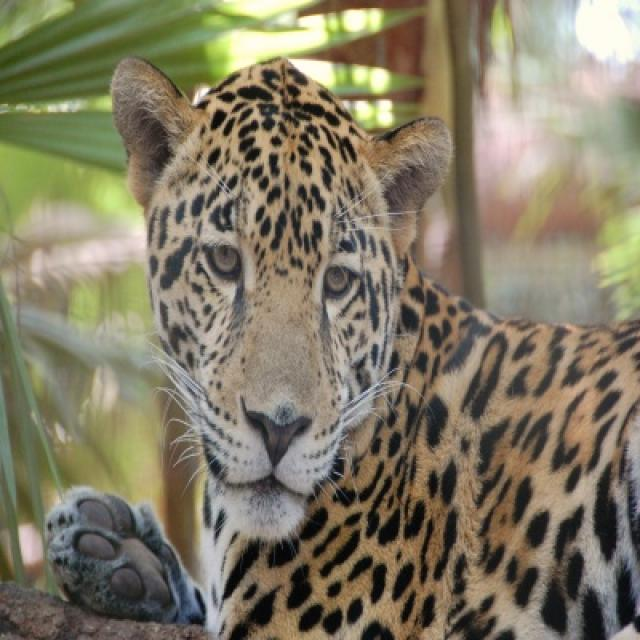Jaguar: (37, 36, 638, 638)
